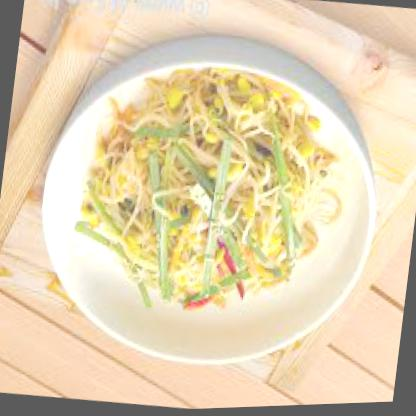seasoned bean sprouts: (84, 62, 338, 336)
